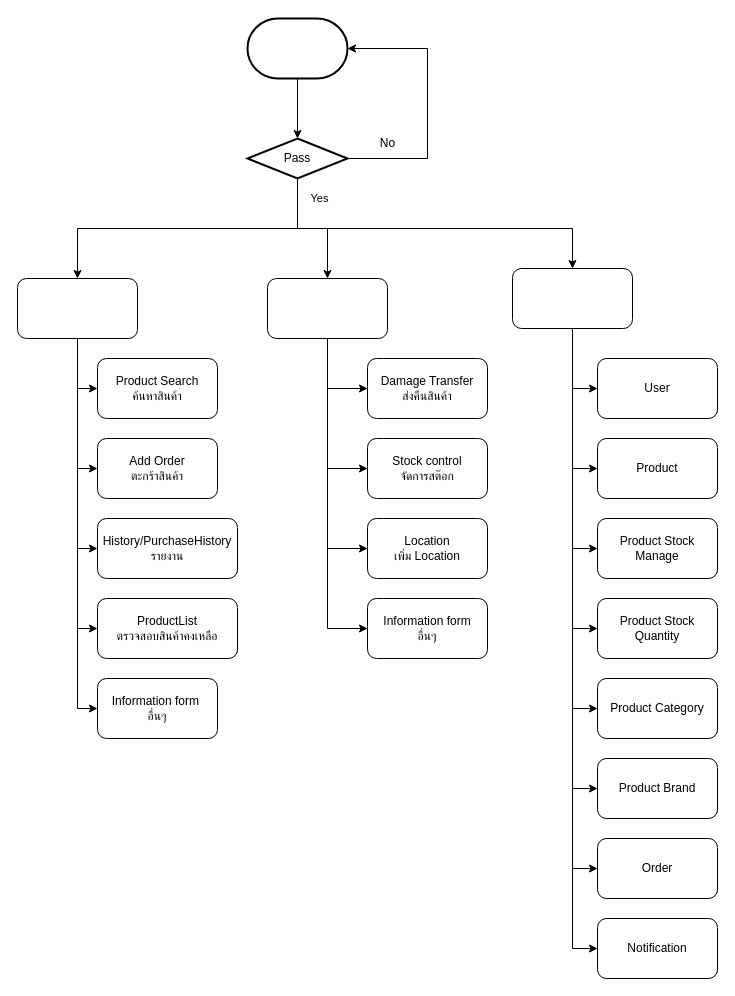
Some shapes in this 735 by 996 pixel diagram are drawn without their labels. Here are the shapes that lost their labels. From the top down, the centre of each, then its label:
At (x=297, y=48): "เข้าสู่ระบบ /แจ้งเตือน".
At (x=77, y=308): "Sale Report หน้าหลัก".
At (x=327, y=308): "Front Line หน้าหลัก".
At (x=572, y=298): "Admin Portal Dashboard".
